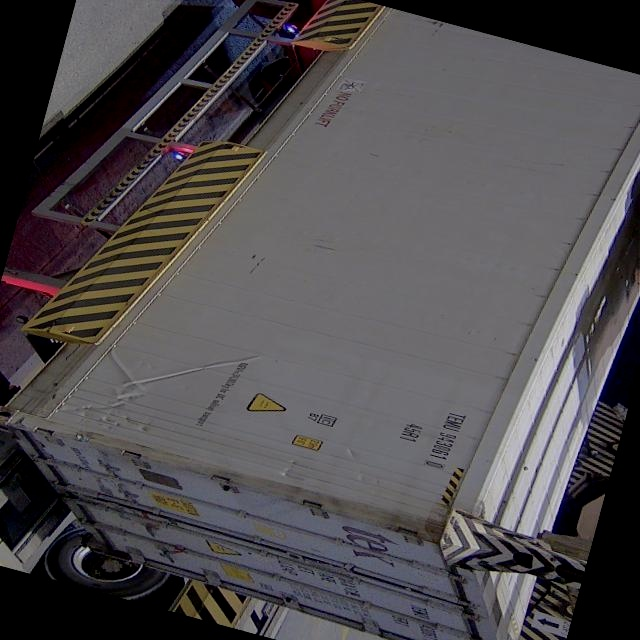Dent: (88, 314, 275, 456)
